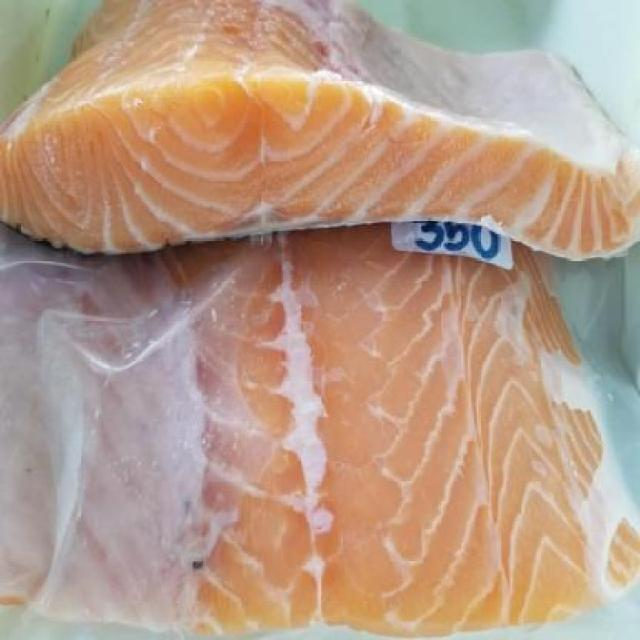salmon: (0, 198, 639, 634), (2, 1, 639, 282)
